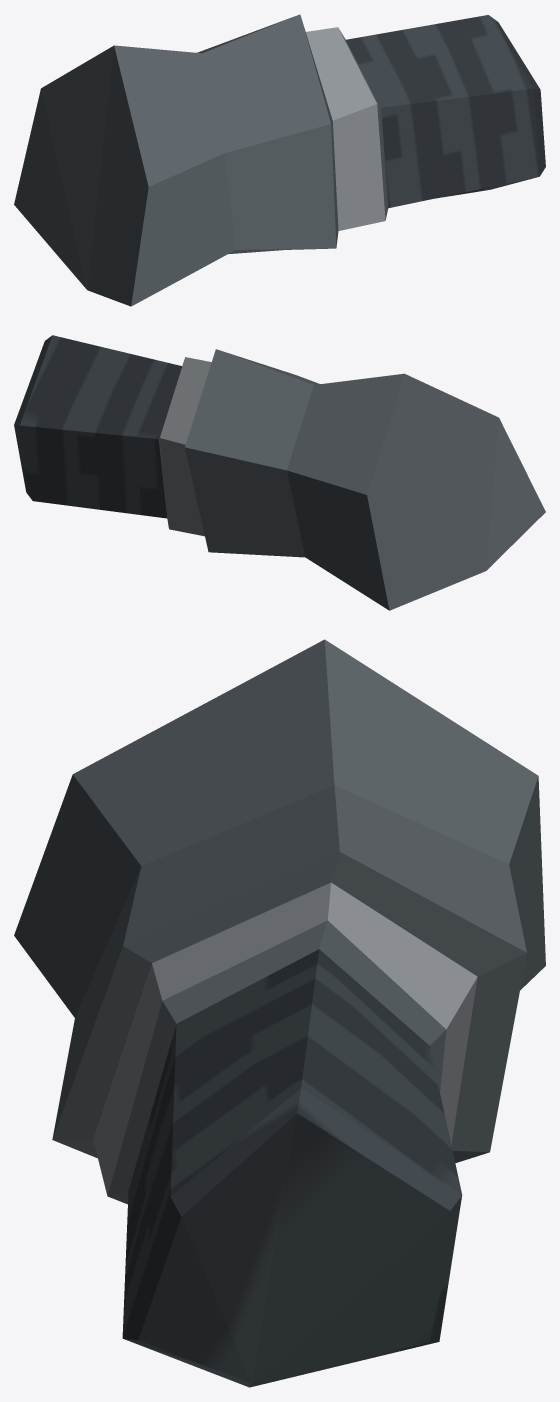
The model's file is Chr_ArmUpperLeft_Male_05_Static.fbx.
The picture shows the model from 3 angles, top to bottom: view 1: azimuth 30°, elevation 25°; view 2: azimuth 150°, elevation 25°; view 3: azimuth 270°, elevation 25°; orthographic projection. The views are drawn at different scales.
Parts seen in each view (by area): view 1: Chr_ArmUpperLeft_Male_05_Static; view 2: Chr_ArmUpperLeft_Male_05_Static; view 3: Chr_ArmUpperLeft_Male_05_Static.
Part boxes in pixels (x1=…): Chr_ArmUpperLeft_Male_05_Static: x1=14, y1=14, x2=545, y2=306; Chr_ArmUpperLeft_Male_05_Static: x1=14, y1=335, x2=545, y2=610; Chr_ArmUpperLeft_Male_05_Static: x1=14, y1=639, x2=545, y2=1387.
Size of the model in its own units: 0.3267 by 0.1586 by 0.1736.
